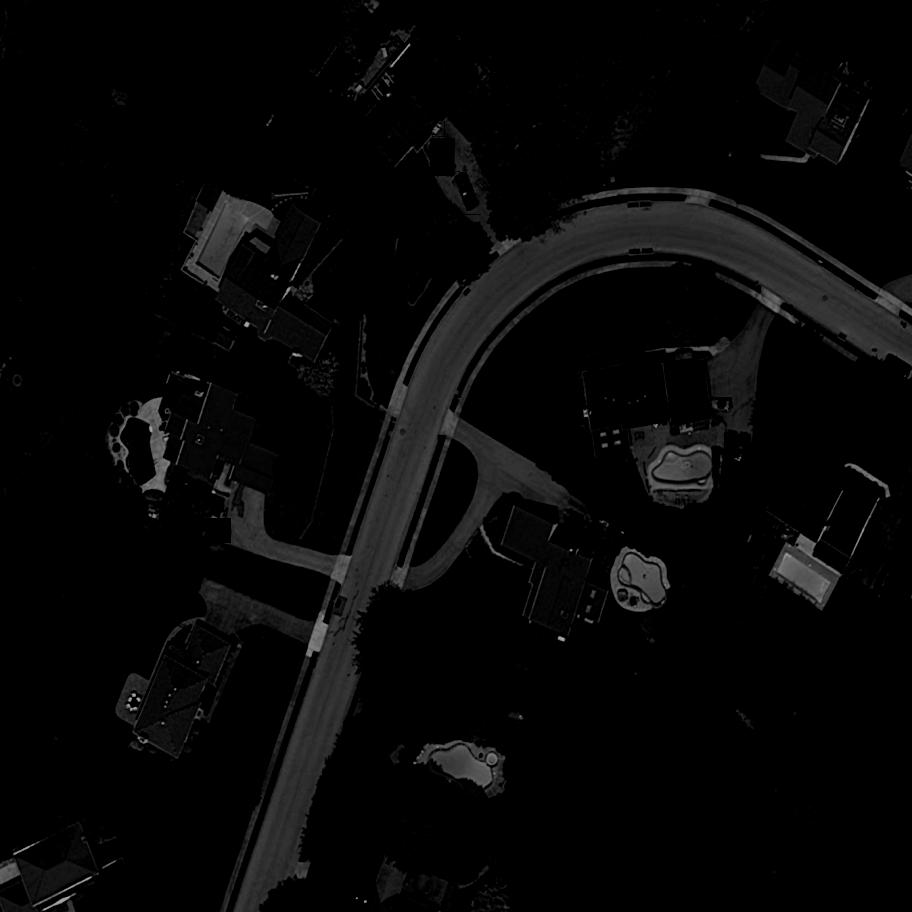small-vehicle: (453, 172, 482, 215), (429, 139, 457, 176), (204, 519, 233, 544), (732, 434, 752, 465), (724, 432, 738, 459), (710, 398, 733, 413), (432, 122, 446, 138)
